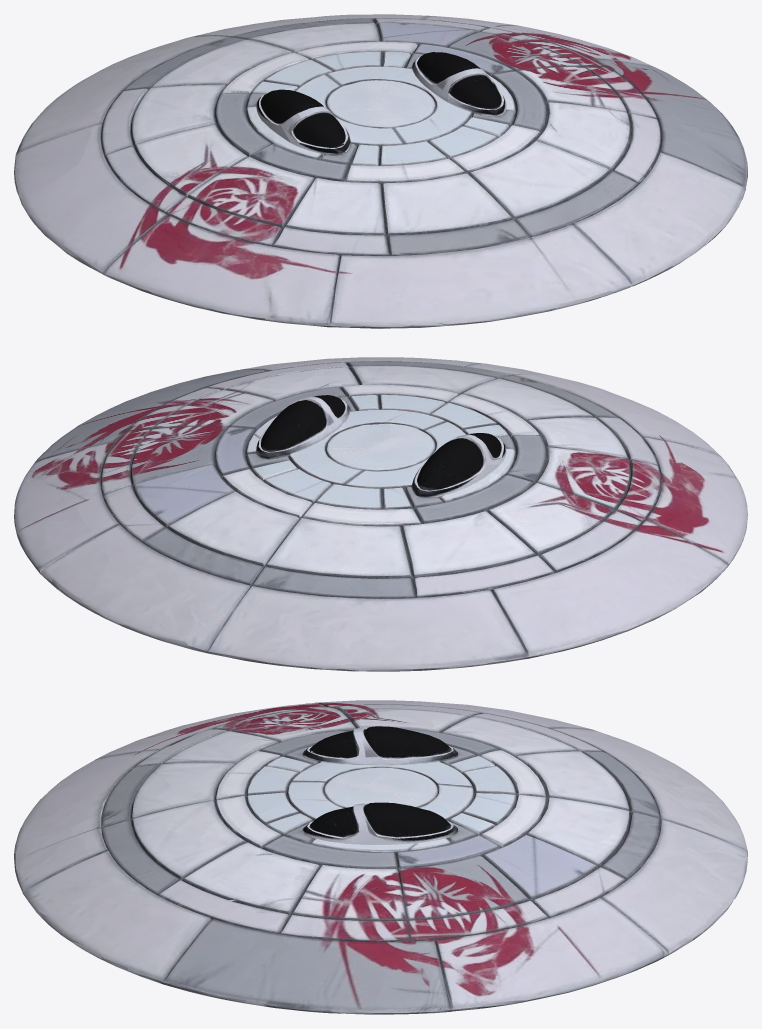
Rendered from pirateskiff.glb.
The picture shows the model from 3 angles, top to bottom: view 1: azimuth 30°, elevation 25°; view 2: azimuth 150°, elevation 25°; view 3: azimuth 270°, elevation 25°; orthographic projection.
Visible parts, largest first — view 1: pirateskiff-centred; view 2: pirateskiff-centred; view 3: pirateskiff-centred.
Boxes of the visible parts, <box> form: pirateskiff-centred: <box>14,14,747,328</box>; pirateskiff-centred: <box>14,357,747,671</box>; pirateskiff-centred: <box>14,700,747,1014</box>.
Size of the model in its own units: 29.99 by 7.02 by 30.
1 material, 1 textured.
